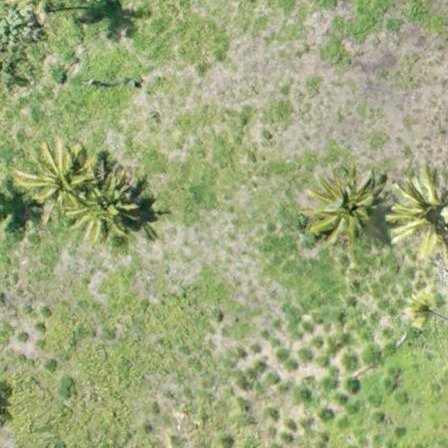palm_tree: (314, 168, 380, 239), (387, 171, 448, 246), (75, 172, 140, 237), (27, 153, 82, 212)
